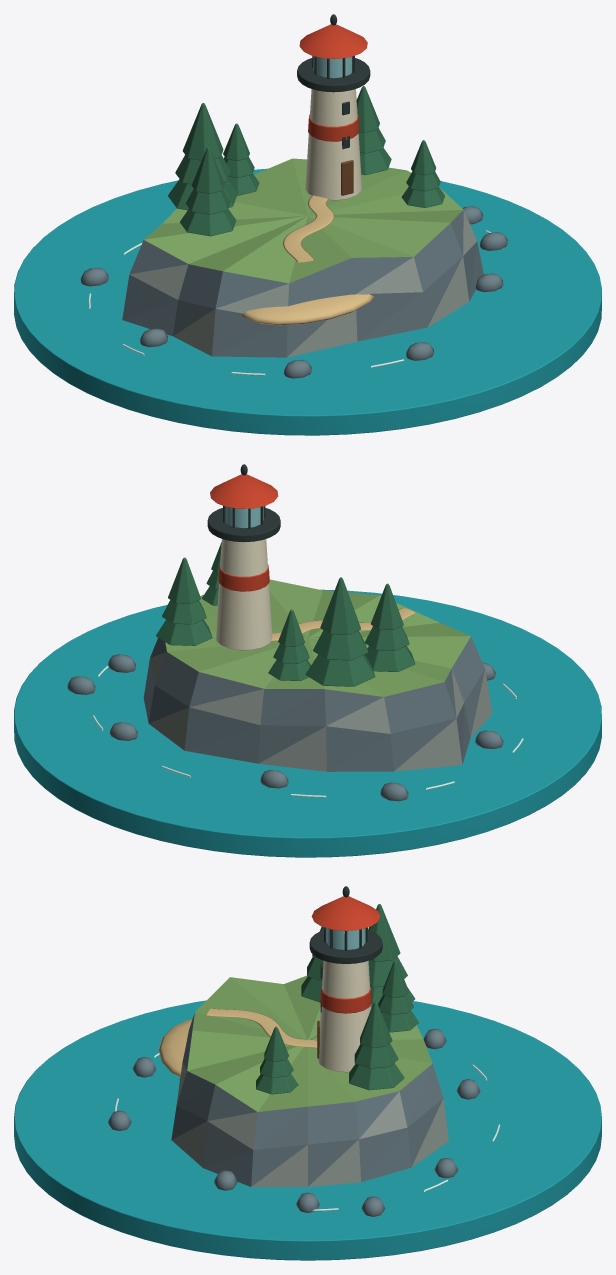
Rendered from result.glb.
3 views of the same model, one above another, from view 1: azimuth 30°, elevation 25°; view 2: azimuth 150°, elevation 25°; view 3: azimuth 270°, elevation 25° (orthographic).
Parts seen in each view (by area): view 1: Water disk, Island cliffs and meadow, Lighthouse tower, Beach, Red lantern roof, Lantern balcony, Winding sand path, Pine tiers.005, Pine tiers, Pine tiers.002, Pine tiers.001, Red band (+8 smaller); view 2: Water disk, Island cliffs and meadow, Lighthouse tower, Red lantern roof, Pine tiers.003, Lantern balcony, Pine tiers.005, Pine tiers.004, Pine tiers.012, Pine tiers, Pine tiers.014, Pine tiers.002 (+8 smaller); view 3: Water disk, Island cliffs and meadow, Lighthouse tower, Red lantern roof, Lantern balcony, Beach, Pine tiers.012, Winding sand path, Pine tiers.014, Pine tiers.013, Pine tiers.005, Red band (+8 smaller).
Boxes of the visible parts, bbox=[...] form: Water disk: bbox=[14, 168, 601, 435]; Island cliffs and meadow: bbox=[122, 158, 483, 357]; Lighthouse tower: bbox=[305, 89, 361, 200]; Beach: bbox=[242, 294, 373, 325]; Red lantern roof: bbox=[299, 24, 367, 58]; Lantern balcony: bbox=[297, 58, 370, 92]; Winding sand path: bbox=[283, 195, 334, 262]; Pine tiers.005: bbox=[182, 103, 223, 160]; Pine tiers: bbox=[180, 208, 236, 236]; Pine tiers.002: bbox=[191, 147, 224, 193]; Pine tiers.001: bbox=[185, 189, 230, 214]; Red band: bbox=[308, 114, 359, 141]; Water disk: bbox=[14, 589, 601, 857]; Island cliffs and meadow: bbox=[143, 579, 492, 771]; Lighthouse tower: bbox=[216, 539, 272, 650]; Red lantern roof: bbox=[210, 474, 278, 508]; Pine tiers.003: bbox=[305, 654, 375, 686]; Lantern balcony: bbox=[207, 508, 280, 542]; Pine tiers.005: bbox=[320, 577, 360, 634]; Pine tiers.004: bbox=[313, 630, 368, 660]; Pine tiers.012: bbox=[156, 619, 212, 645]; Pine tiers: bbox=[365, 646, 415, 671]; Pine tiers.014: bbox=[168, 557, 200, 603]; Pine tiers.002: bbox=[371, 583, 403, 629]; Water disk: bbox=[14, 1000, 601, 1260]; Island cliffs and meadow: bbox=[171, 975, 448, 1186]; Lighthouse tower: bbox=[317, 960, 371, 1072]; Red lantern roof: bbox=[311, 896, 380, 930]; Lantern balcony: bbox=[309, 930, 382, 963]; Beach: bbox=[158, 1019, 192, 1076]; Pine tiers.012: bbox=[349, 1063, 404, 1090]; Winding sand path: bbox=[206, 1008, 317, 1048]; Pine tiers.014: bbox=[360, 1001, 392, 1047]; Pine tiers.013: bbox=[354, 1043, 398, 1068]; Pine tiers.005: bbox=[368, 904, 400, 961]; Red band: bbox=[320, 988, 371, 1013].
Size of what is drawn, in the model's own units: 7.4 by 3.78 by 7.4.
